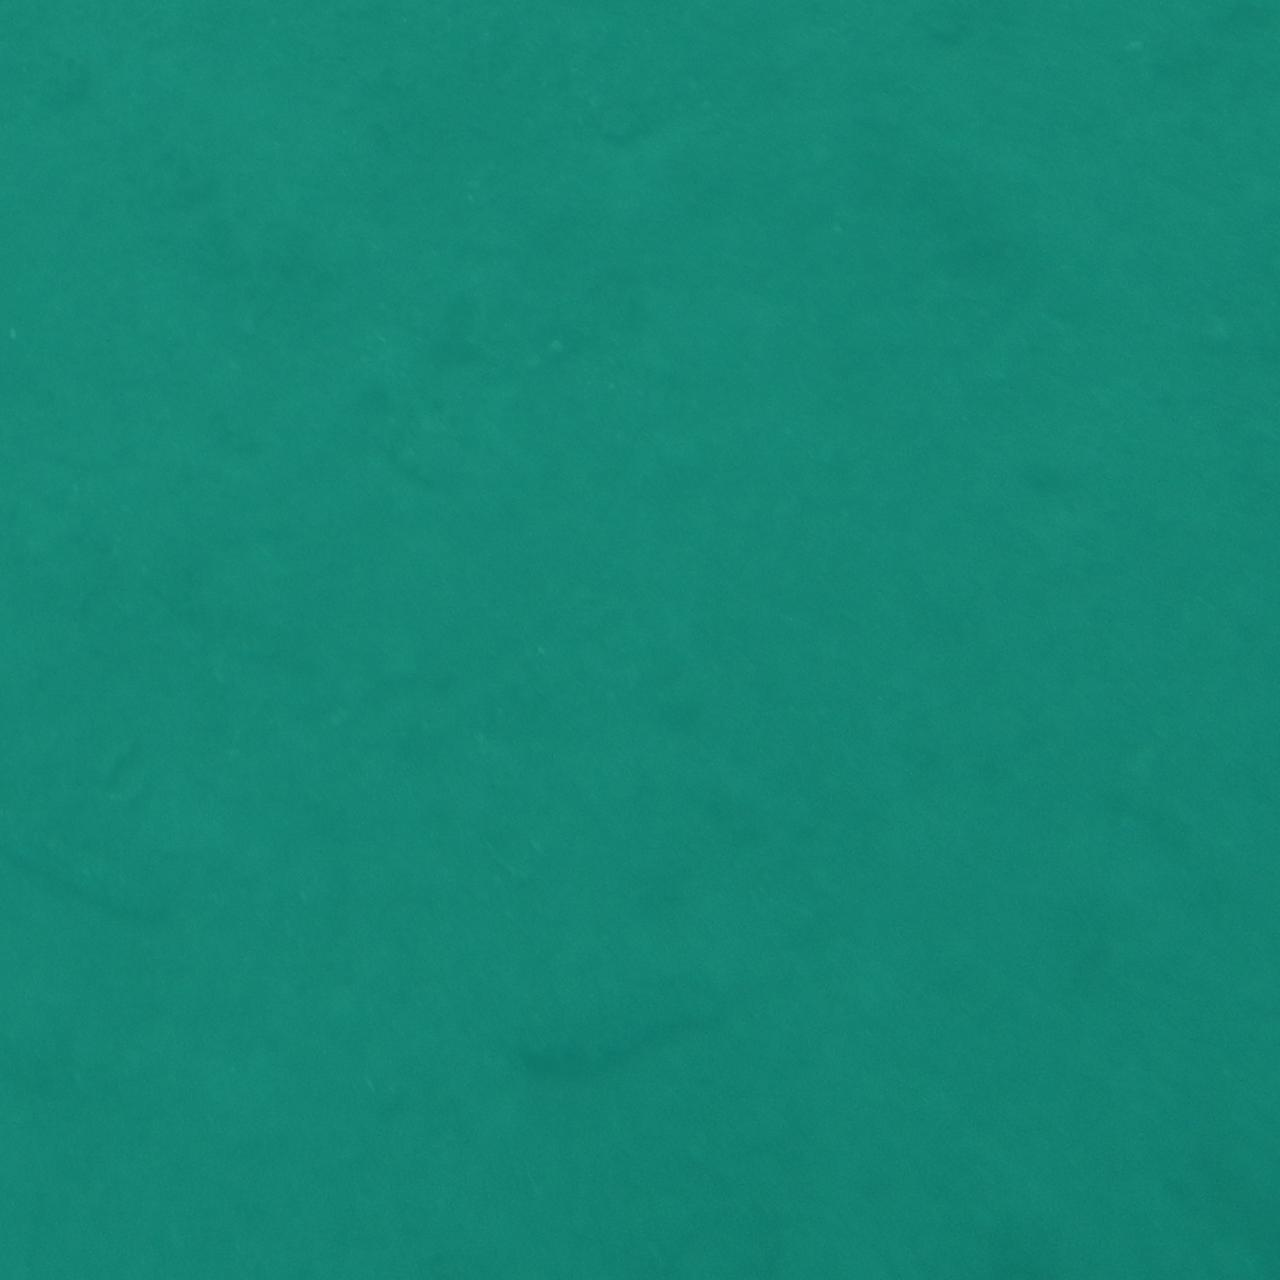Holothuria tubulosa: (494, 989, 786, 1105)
